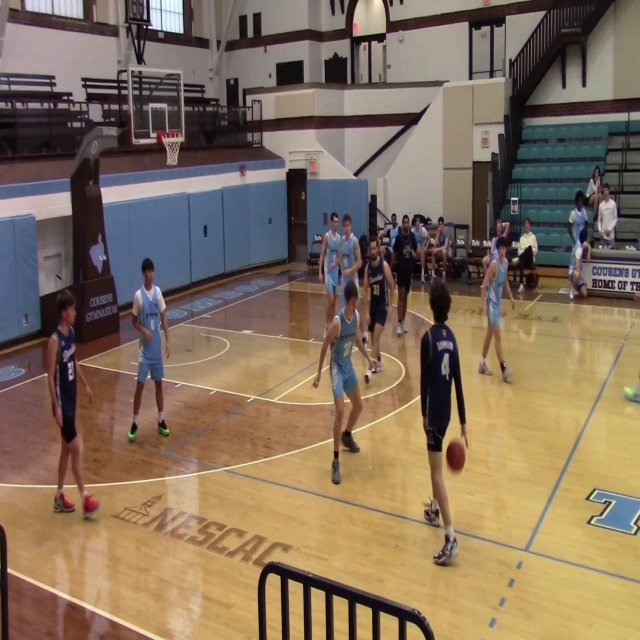Basketball: (446, 439, 466, 471)
